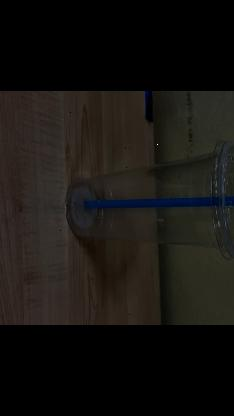Others: (65, 140, 234, 264)
